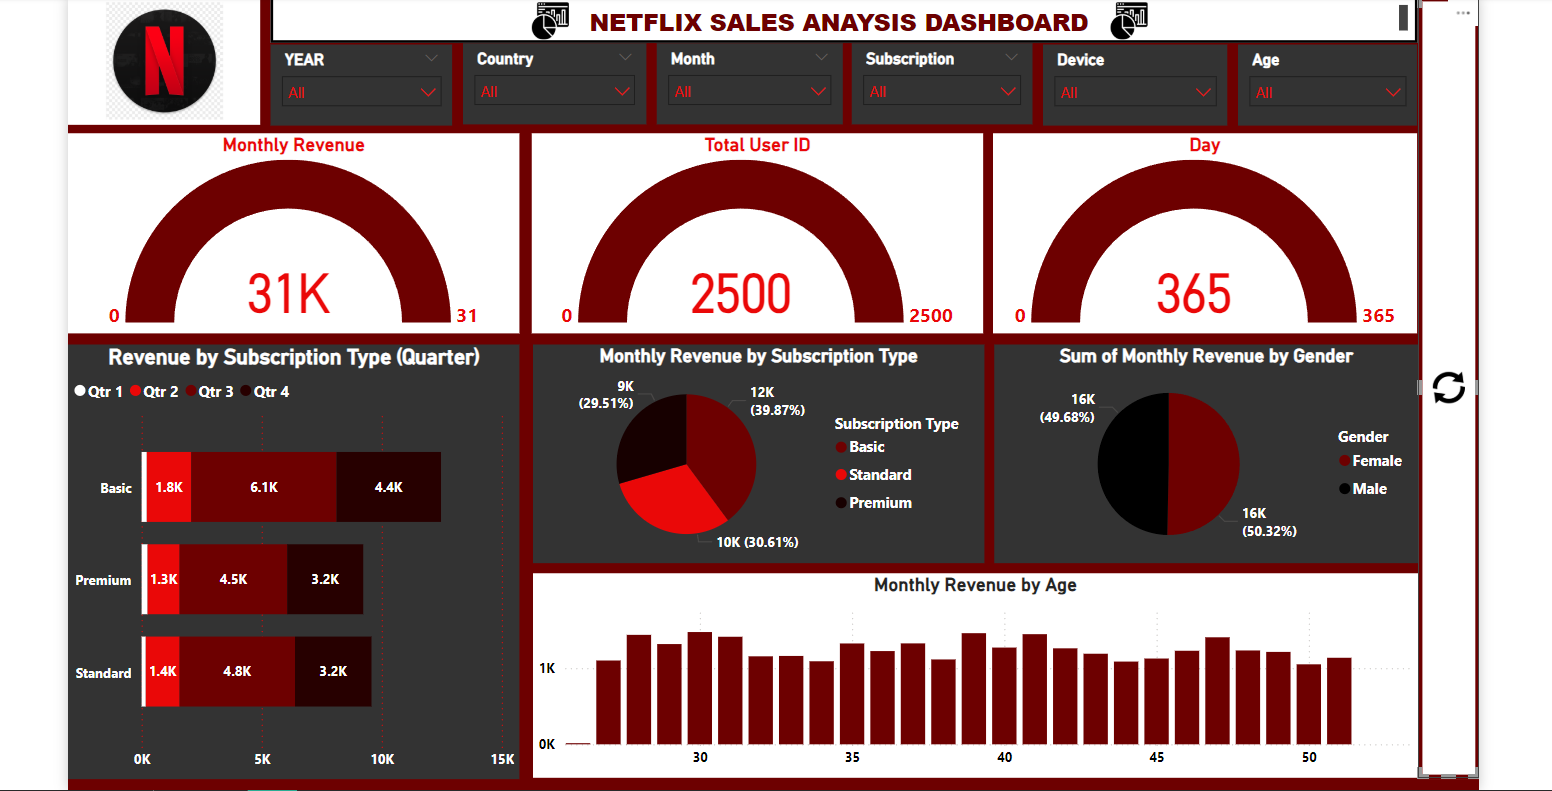

What the dashboard file says about the page in this screenshot:
{"tool":"powerbi","page":{"name":"Page 1","canvas":[1280,720],"ordinal":0},"visuals":[{"type":"image","box":[0,0,183.7,116.8],"z":0},{"type":"slicer","fields":{"Values":["Netflix Userbase.Join Date.Variation.Date Hierarchy.Year"]},"box":[183.7,42.6,165.1,73.3],"z":1000},{"type":"slicer","fields":{"Values":["Netflix Userbase.Country"]},"box":[358.1,42.3,166.3,73.3],"z":2000},{"type":"slicer","fields":{"Values":["Netflix Userbase.Join Date.Variation.Date Hierarchy.Month"]},"box":[533.7,42.1,168.6,73.3],"z":3000},{"type":"slicer","fields":{"Values":["Netflix Userbase.Device"]},"box":[884.9,43,167.4,73.3],"z":4000},{"type":"slicer","fields":{"Values":["Netflix Userbase.Subscription Type"]},"box":[711.6,41.9,164,73.3],"z":5000},{"type":"slicer","fields":{"Values":["Netflix Userbase.Age"]},"box":[1061.6,42.8,162.8,73.3],"z":6000},{"type":"textbox","box":[183.7,0,1040.7,41.9],"z":7000},{"type":"image","box":[350,0,174.4,43],"z":8000},{"type":"image","box":[875.6,0,174.4,43],"z":9000},{"type":"gauge","fields":{"Y":["Sum(Netflix Userbase.Monthly Revenue)"]},"box":[0,124,409.8,181.9],"z":10000},{"type":"gauge","title":"Day","fields":{"Y":["CountNonNull(Netflix Userbase.Last Payment Date.Variation.Date Hierarchy.Day)"]},"box":[839.7,124,385,181.9],"z":11000},{"type":"gauge","title":"Total User ID","fields":{"Y":["CountNonNull(Netflix Userbase.User ID)"]},"box":[420.4,124,409.8,181.9],"z":12000},{"type":"pieChart","title":"Monthly Revenue by Subscription Type","fields":{"Category":["Netflix Userbase.Subscription Type"],"Y":["Sum(Netflix Userbase.Monthly Revenue)"]},"box":[421.6,315.3,409.8,198.4],"z":13000},{"type":"barChart","title":" Revenue by Subscription Type (Quarter)","fields":{"Y":["Sum(Netflix Userbase.Monthly Revenue)"],"Category":["Netflix Userbase.Subscription Type"],"Series":["Netflix Userbase.Join Date.Variation.Date Hierarchy.Quarter"]},"box":[0,315.3,409.8,394.5],"z":14000},{"type":"columnChart","title":" Monthly Revenue by Age","fields":{"Category":["Netflix Userbase.Age"],"Y":["Sum(Netflix Userbase.Monthly Revenue)"]},"box":[421.9,522.9,803,186],"z":15000},{"type":"pieChart","fields":{"Category":["Netflix Userbase.Gender"],"Y":["Sum(Netflix Userbase.Monthly Revenue)"]},"box":[840,315,385,198],"z":16000},{"type":"image","box":[1224.4,0,55.8,709.3],"z":17000}]}

Visuals, with their boxes in screenshot pixels (x1, y1, x2, y2):
image: 36/0/243/119
slicer - Netflix Userbase.Join Date.Variation.Date Hierarchy.Year: 243/36/429/118
slicer - Netflix Userbase.Country: 439/35/626/118
slicer - Netflix Userbase.Join Date.Variation.Date Hierarchy.Month: 637/35/826/118
slicer - Netflix Userbase.Device: 1032/36/1220/119
slicer - Netflix Userbase.Subscription Type: 837/35/1021/117
slicer - Netflix Userbase.Age: 1231/36/1414/118
textbox: 243/0/1414/35
image: 430/0/626/36
image: 1021/0/1218/36
gauge - Sum(Netflix Userbase.Monthly Revenue): 36/127/497/332
"Day" gauge: 981/127/1414/332
"Total User ID" gauge: 509/127/970/332
"Monthly Revenue by Subscription Type" pieChart: 511/343/972/566
" Revenue by Subscription Type (Quarter)" barChart: 36/343/497/786
" Monthly Revenue by Age" columnChart: 511/576/1414/785
pieChart - Netflix Userbase.Gender x Sum(Netflix Userbase.Monthly Revenue): 981/342/1414/565
image: 1414/0/1476/786
